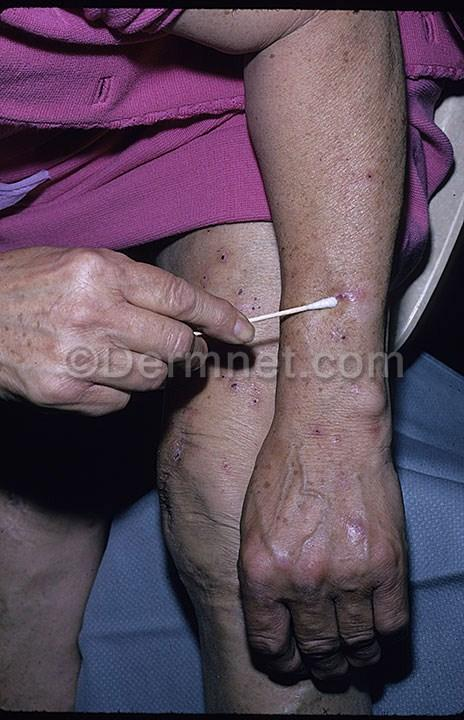Eczema: (184, 224, 268, 313), (298, 245, 382, 319), (318, 475, 395, 552), (2, 279, 72, 363), (160, 439, 232, 515), (248, 470, 330, 531), (205, 369, 280, 433), (305, 399, 362, 464), (318, 25, 363, 80), (339, 149, 382, 193), (351, 395, 380, 445)
